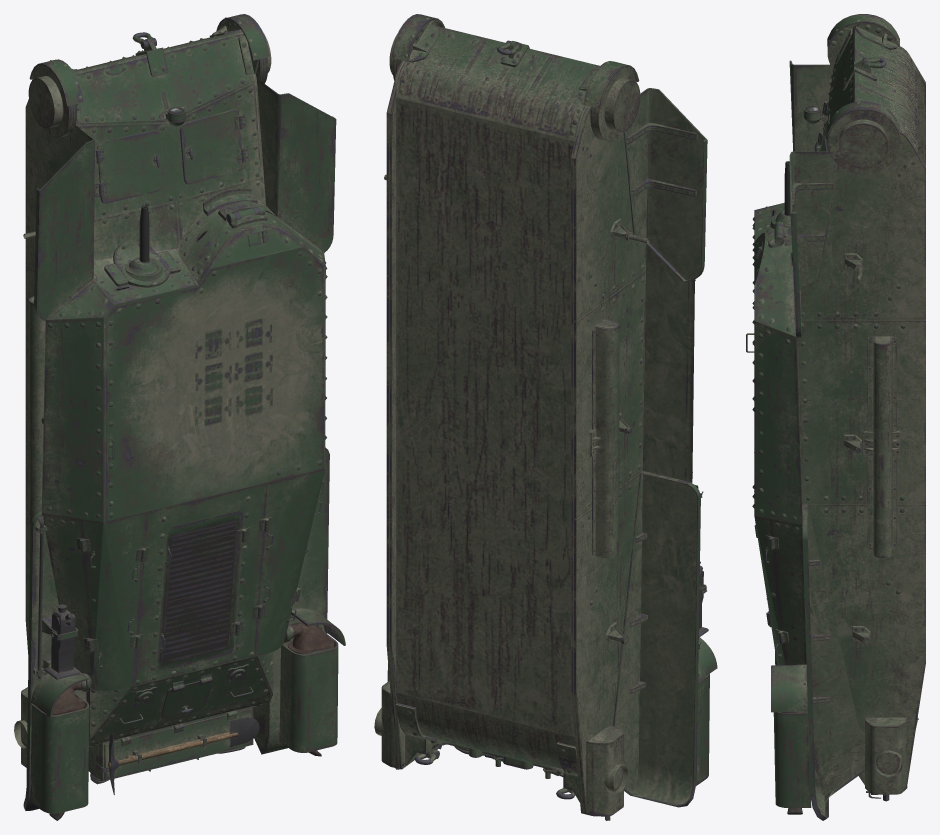
Rendered from Hull.glb.
The picture shows the model from 3 angles, left to right: view 1: azimuth 30°, elevation 25°; view 2: azimuth 150°, elevation 25°; view 3: azimuth 270°, elevation 25°; orthographic projection. The views are drawn at different scales.
Visible parts, largest first — view 1: set_0_group_0; view 2: set_0_group_0; view 3: set_0_group_0.
Boxes of the visible parts, bbox=[...] form: set_0_group_0: bbox=[14, 14, 345, 820]; set_0_group_0: bbox=[374, 14, 717, 820]; set_0_group_0: bbox=[746, 14, 925, 820].
Size of the model in its own units: 2.33 by 5.42 by 1.27.
1 material, 1 textured.
